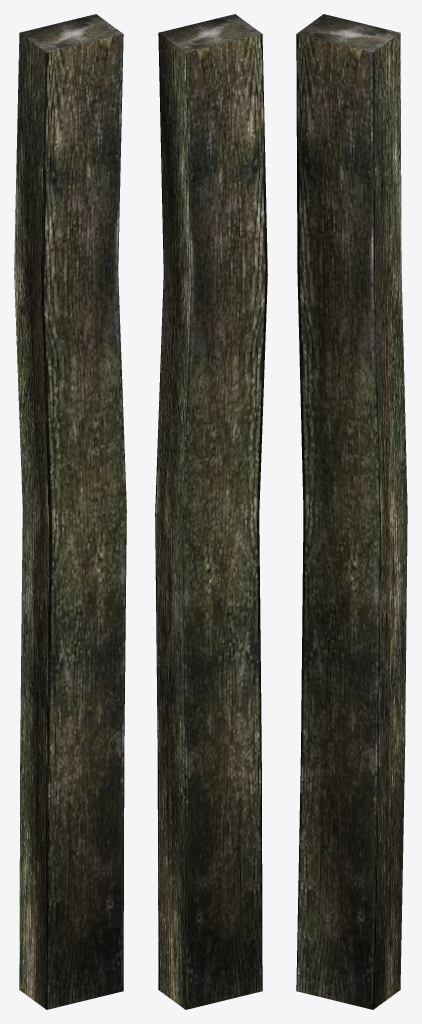
The model's file is ADDON_MISC_WOODPILLAR_L04.glb.
3 renders of one model, left to right at view 1: azimuth 30°, elevation 25°; view 2: azimuth 210°, elevation 25°; view 3: azimuth 330°, elevation 25°, orthographic.
Visible parts, largest first — view 1: Mesh; view 2: Mesh; view 3: Mesh.
Part boxes in pixels (x1,y1,x2,y2): Mesh: (14,14,126,1009); Mesh: (155,14,267,1009); Mesh: (296,14,407,1009).
Size of the model in its own units: 0.5475 by 5.95 by 0.3437.
2 materials, 2 textured.
